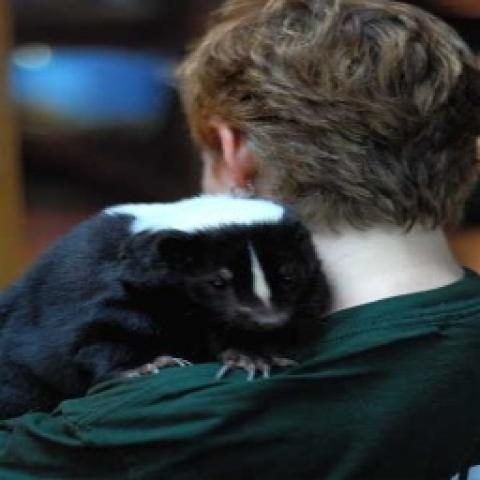small_animal: (0, 189, 334, 424)
